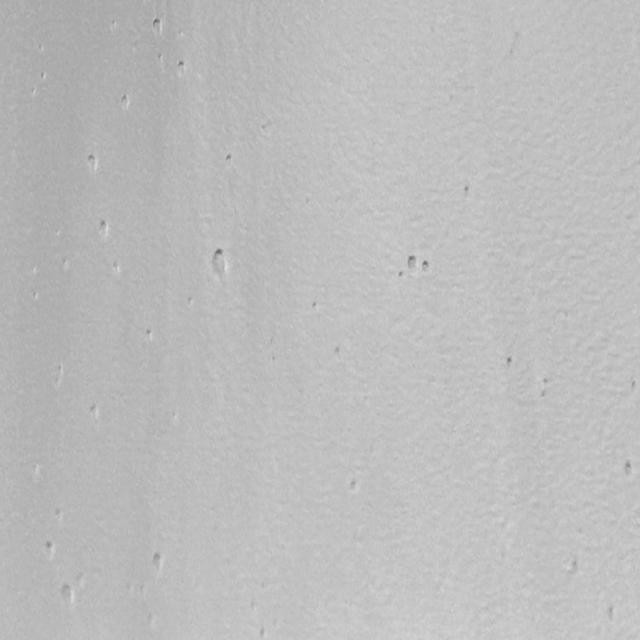pin holes: (207, 244, 232, 282), (57, 583, 78, 610), (150, 550, 170, 575), (256, 118, 278, 139), (602, 602, 621, 626), (404, 253, 422, 277), (621, 460, 639, 483), (85, 152, 102, 174), (152, 16, 167, 38), (43, 538, 58, 560), (52, 363, 67, 385), (96, 219, 111, 240), (88, 402, 103, 421), (120, 92, 134, 112), (420, 258, 434, 276), (462, 184, 476, 202), (504, 355, 518, 372), (346, 478, 360, 495), (59, 258, 72, 276), (568, 557, 578, 579), (332, 344, 345, 360), (308, 300, 322, 314), (53, 508, 65, 524), (112, 261, 124, 277), (109, 18, 121, 34), (224, 153, 237, 167), (258, 624, 271, 638), (143, 327, 155, 342), (176, 60, 187, 76), (186, 294, 197, 310), (156, 52, 166, 69), (628, 378, 638, 393), (29, 86, 39, 100), (40, 70, 50, 82)
